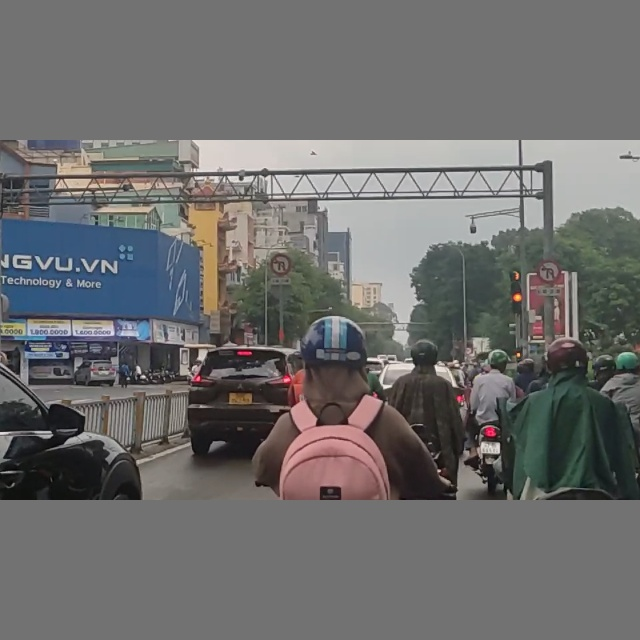P.124c: (538, 261, 560, 283), (271, 254, 291, 274)
